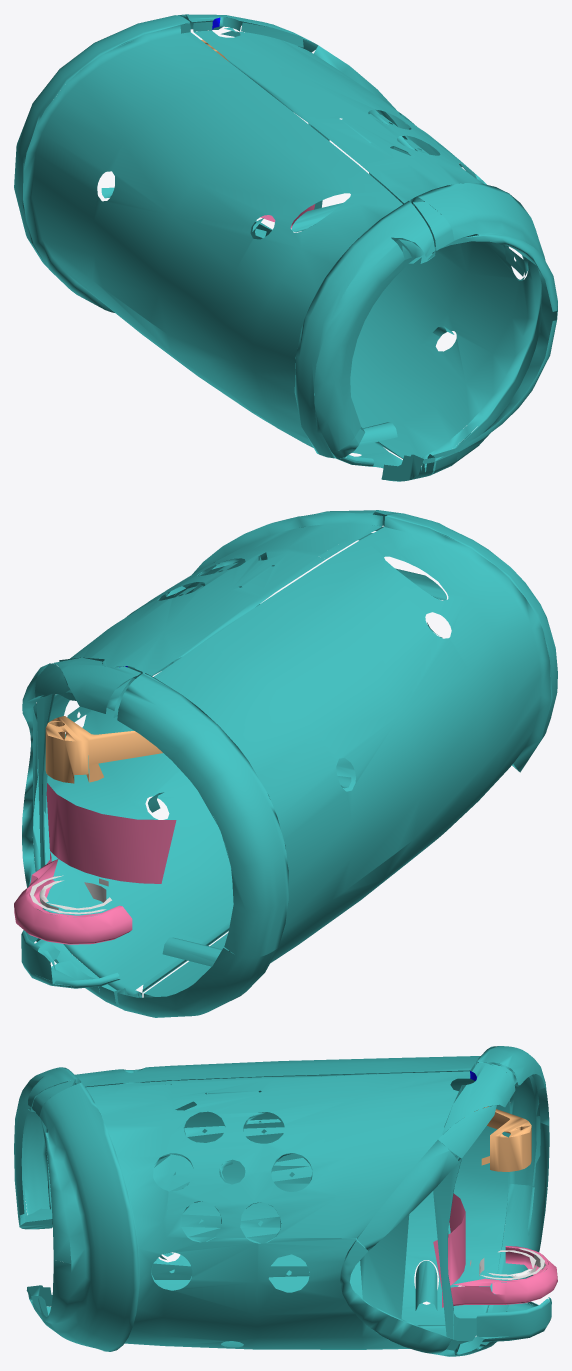
Rendered from sim_icub3_l_upperarm.obj.
3 renders of one model, top to bottom at view 1: azimuth 30°, elevation 25°; view 2: azimuth 150°, elevation 25°; view 3: azimuth 270°, elevation 25°, orthographic. The views are drawn at different scales.
Bounding box in the file's own units: 110 × 97.79 × 177.
